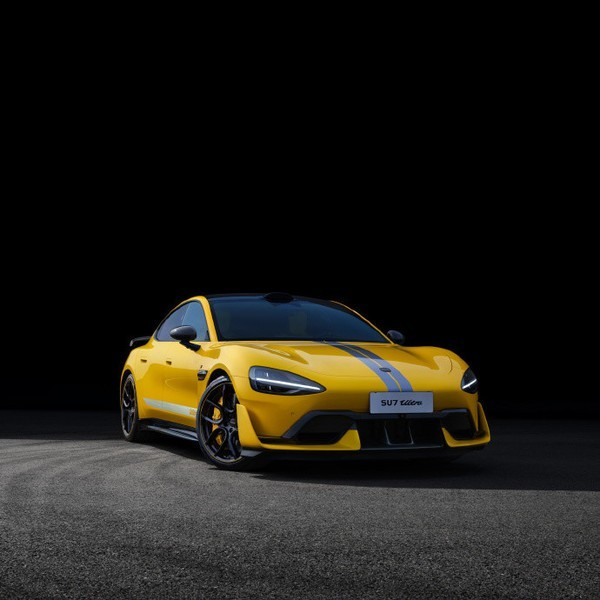su7: (115, 296, 498, 473)
